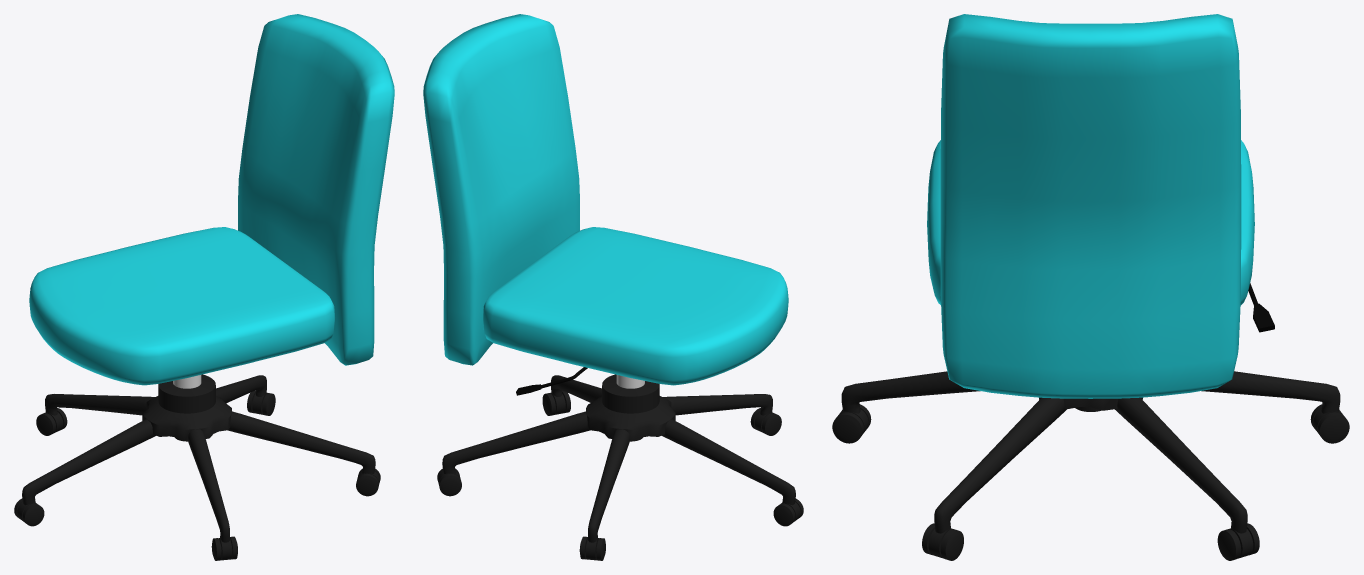
The model's file is office chair.glb.
The picture shows the model from 3 angles, left to right: view 1: azimuth 30°, elevation 25°; view 2: azimuth 150°, elevation 25°; view 3: azimuth 270°, elevation 25°; orthographic projection. The views are drawn at different scales.
Visible parts, largest first — view 1: Cube.069, Chair, Cylinder.002; view 2: Cube.069, Chair, Cylinder.002; view 3: Cube.069, Cylinder.002, Chair.
Part boxes in pixels (<box>): Cube.069: <box>238,14,394,365</box>; Chair: <box>29,227,334,385</box>; Cylinder.002: <box>14,374,380,560</box>; Cube.069: <box>423,14,579,365</box>; Chair: <box>483,227,788,385</box>; Cylinder.002: <box>437,374,803,560</box>; Cube.069: <box>940,14,1241,398</box>; Cylinder.002: <box>832,371,1349,560</box>; Chair: <box>927,140,1254,305</box>.
Bounding box in the file's own units: 2.54 × 2.78 × 2.35.
